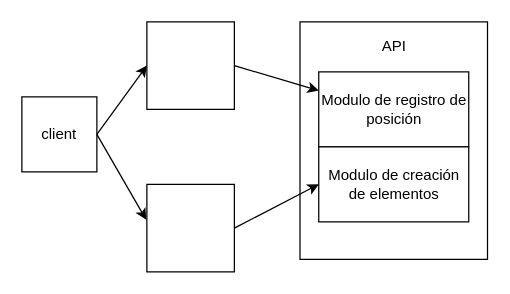
This 510x294 diagram has some shape labels left out. Each missing label, with the centre of its shape:
click in element list: point (190, 227)
Move existent element: point (190, 65)
